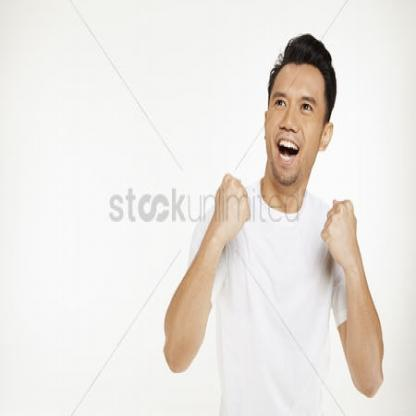fist: (318, 192, 360, 268), (209, 173, 253, 237)
